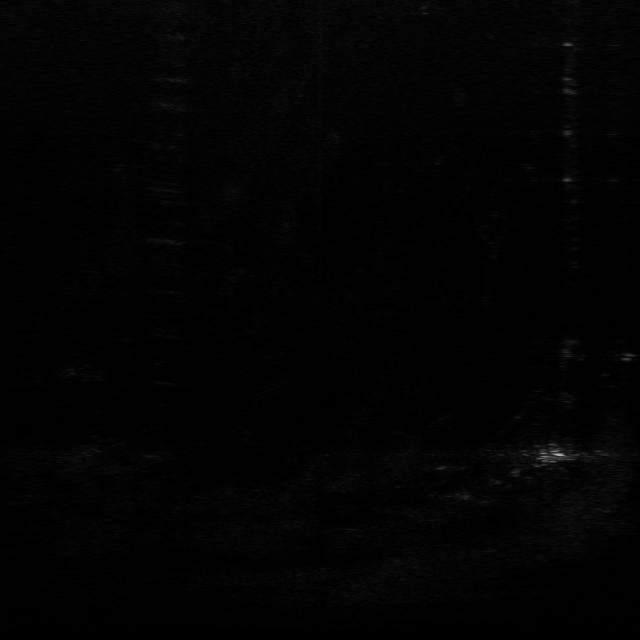rov: (536, 447, 570, 468)
